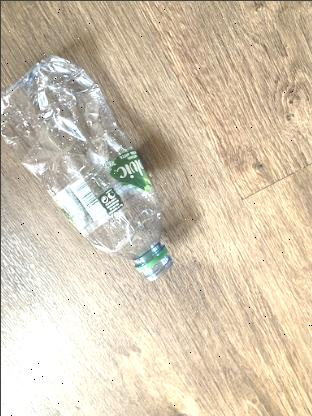Plastic Bottle: (0, 54, 174, 282)
